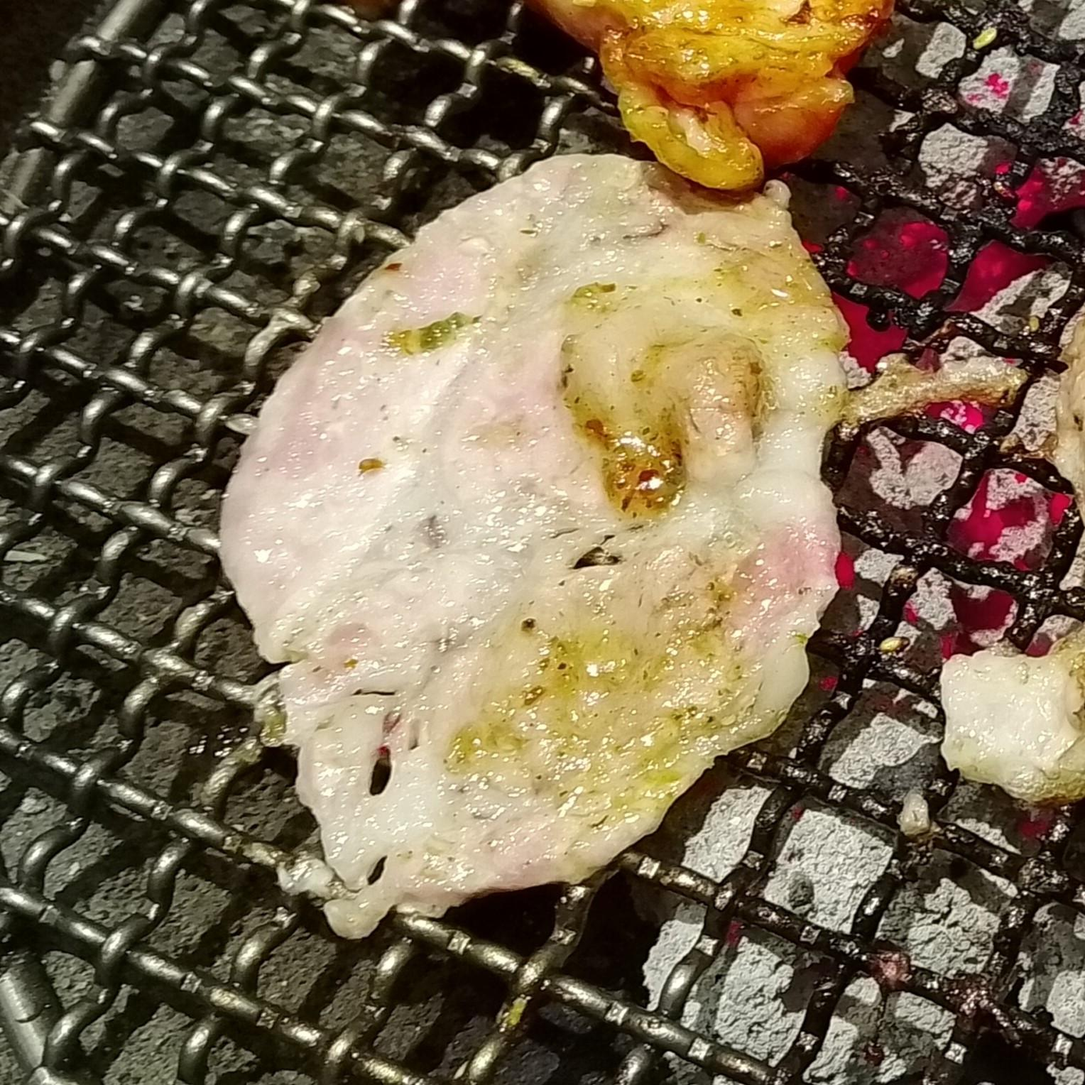Undercooked: (219, 155, 867, 942)
Well-Cooked: (529, 0, 898, 197)
